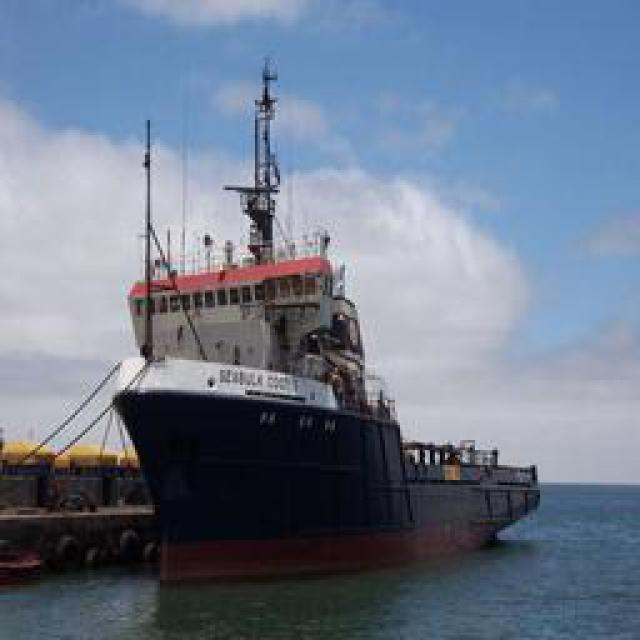Ship: (43, 45, 511, 580)
